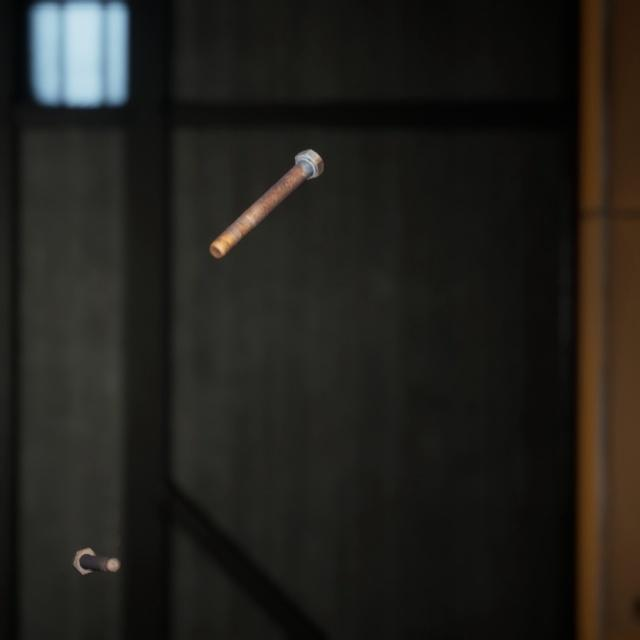bolt: (205, 129, 328, 247), (66, 521, 125, 557)
